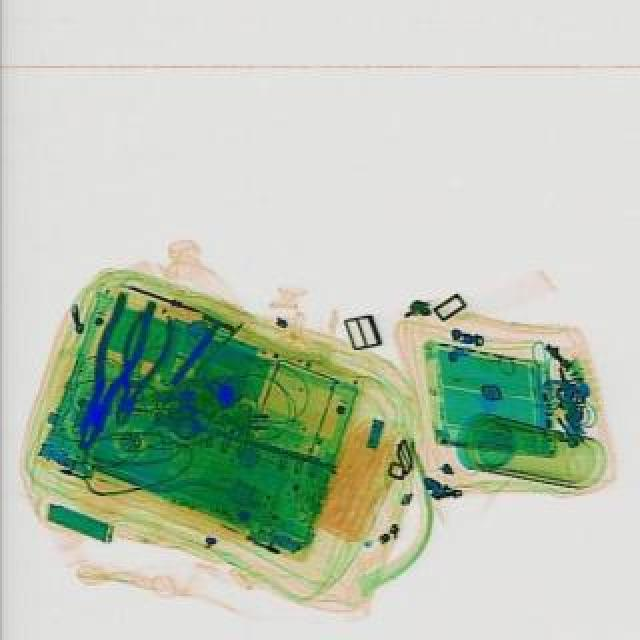wrench: (58, 288, 158, 456), (96, 308, 178, 430)
